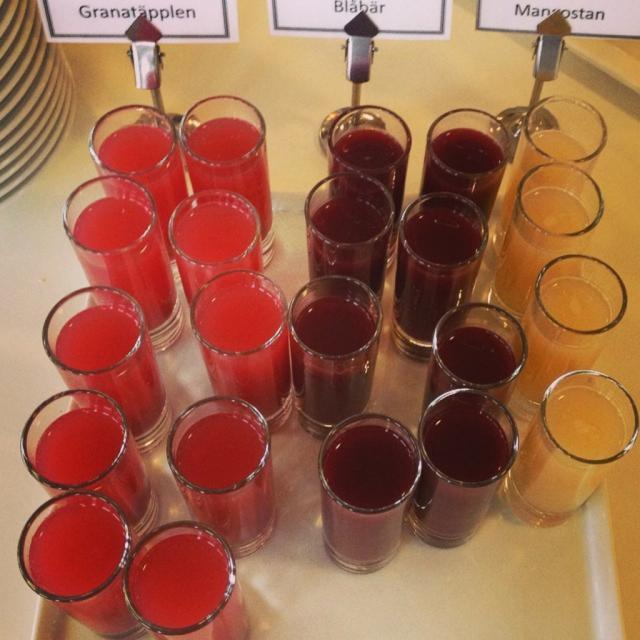Juice: (21, 125, 519, 639), (179, 103, 263, 194)
